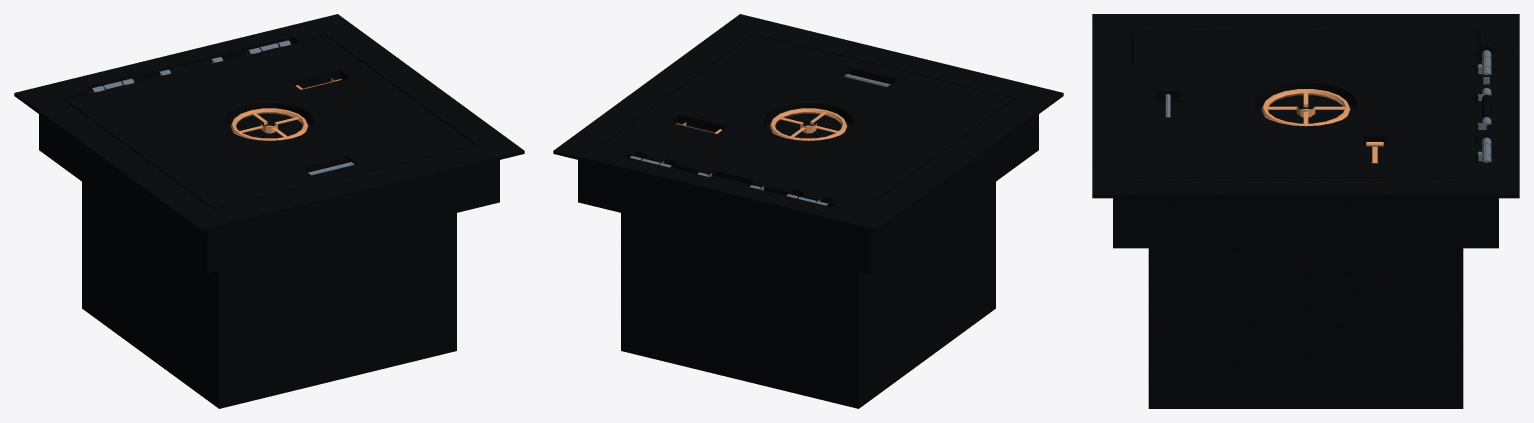
3 renders of one model, left to right at view 1: azimuth 30°, elevation 25°; view 2: azimuth 150°, elevation 25°; view 3: azimuth 270°, elevation 25°, orthographic. The views are drawn at different scales.
Visible parts, largest first — view 1: hatch_frame, hatch_leaf_shell, hatch_OverrideOrange_Handwheel; view 2: hatch_frame, hatch_leaf_shell, hatch_OverrideOrange_Handwheel; view 3: hatch_frame, hatch_leaf_shell, hatch_OverrideOrange_Handwheel, hatch_HingeHeavy_leaf.
Part boxes in pixels (<box>): hatch_frame: <box>14,14,524,408</box>; hatch_leaf_shell: <box>64,36,474,209</box>; hatch_OverrideOrange_Handwheel: <box>230,108,308,140</box>; hatch_frame: <box>553,14,1063,408</box>; hatch_leaf_shell: <box>603,35,1013,209</box>; hatch_OverrideOrange_Handwheel: <box>769,108,847,140</box>; hatch_frame: <box>1092,14,1519,408</box>; hatch_leaf_shell: <box>1133,31,1478,177</box>; hatch_OverrideOrange_Handwheel: <box>1261,89,1350,126</box>; hatch_HingeHeavy_leaf: <box>1477,56,1491,161</box>.
Size of what is drawn, in the model's own units: 1.24 by 0.762 by 1.24.
5 materials, 3 textured.
